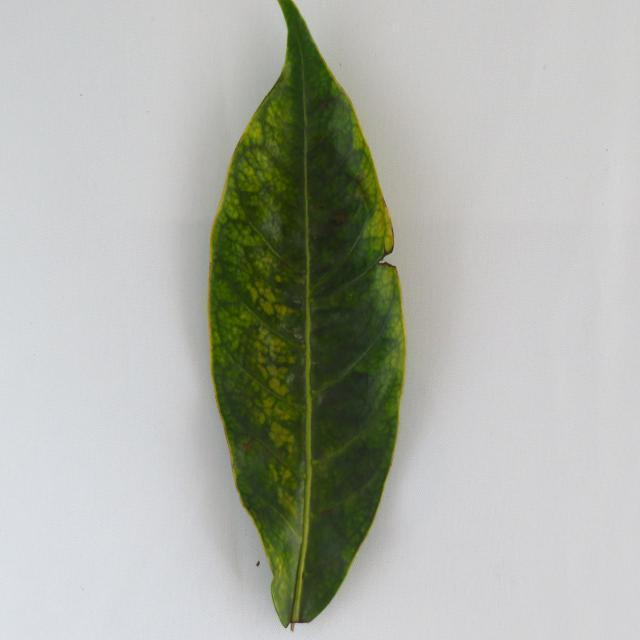DeficienciaNutricional-Manganeso: (209, 0, 406, 630)
